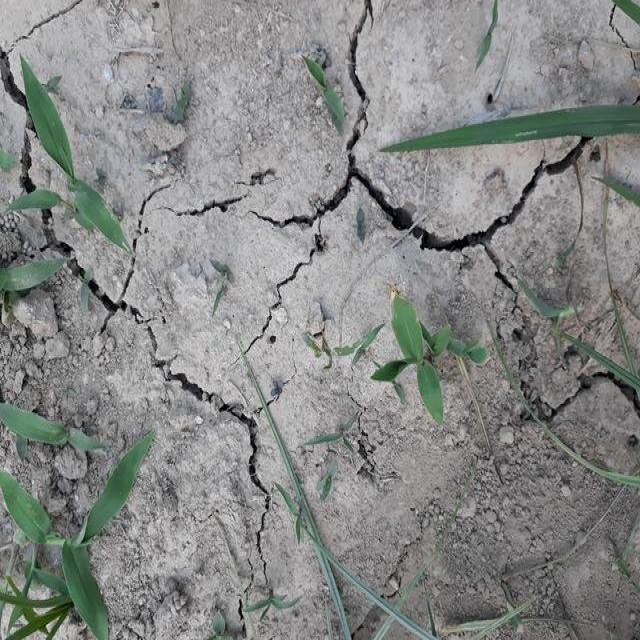weed: (4, 378, 140, 640), (0, 61, 131, 294), (359, 287, 494, 439)
